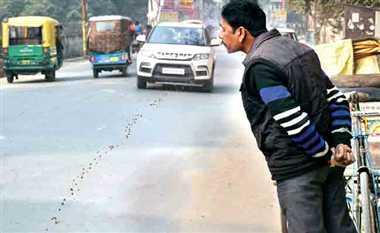Spitting: (152, 0, 267, 108)
